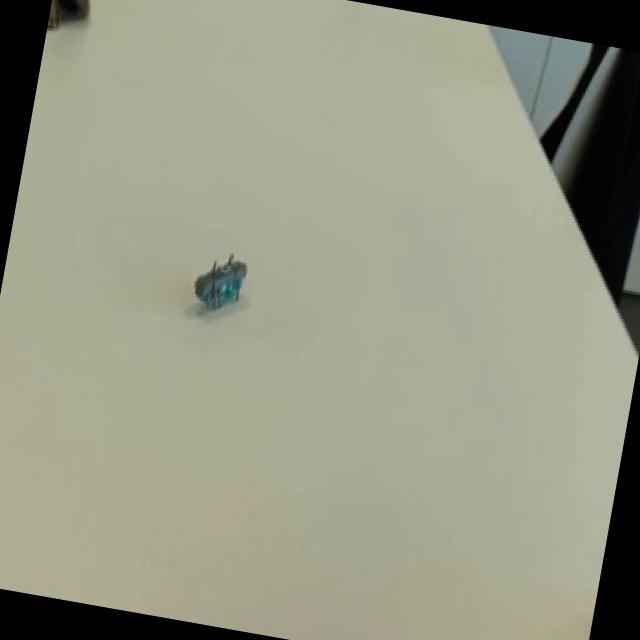5_NanoBug_GrisClaro: (169, 220, 268, 332)
